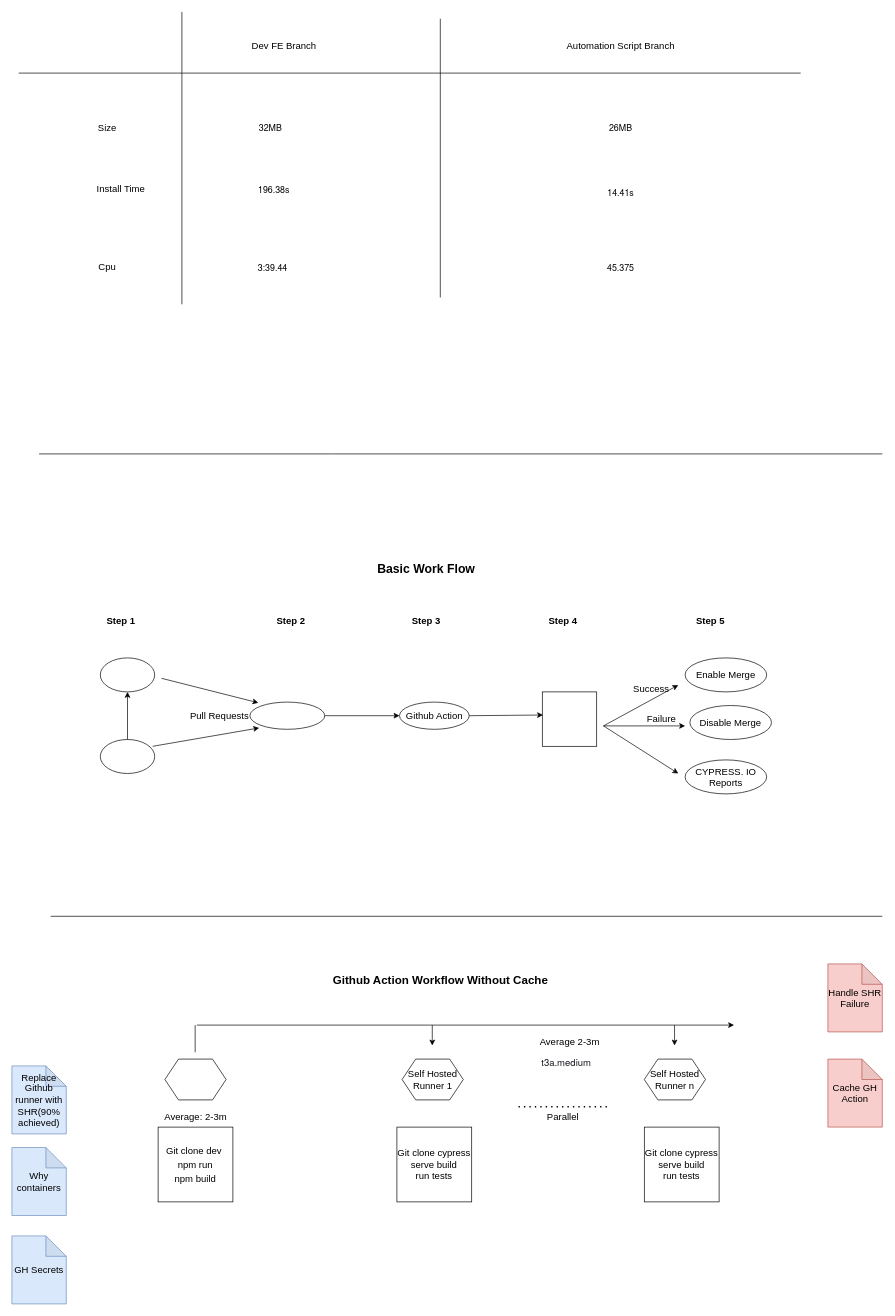
The diagram is 895 pixels wide and 1316 high, and some of its shapes have lost their labels. Here are the shapes that lost their labels. From the top down, the centre of each, then its label:
At pixel 127 674: "Master".
At pixel 287 715: "Temp Branch".
At pixel 569 718: "Build Serve Run Tests".
At pixel 127 756: "Feature 1".
At pixel 195 1079: "Github Runner".
